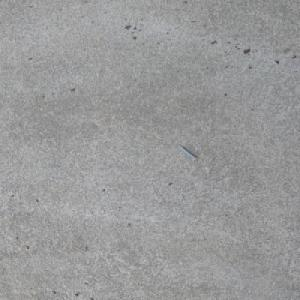Screw: (177, 145, 199, 160)
